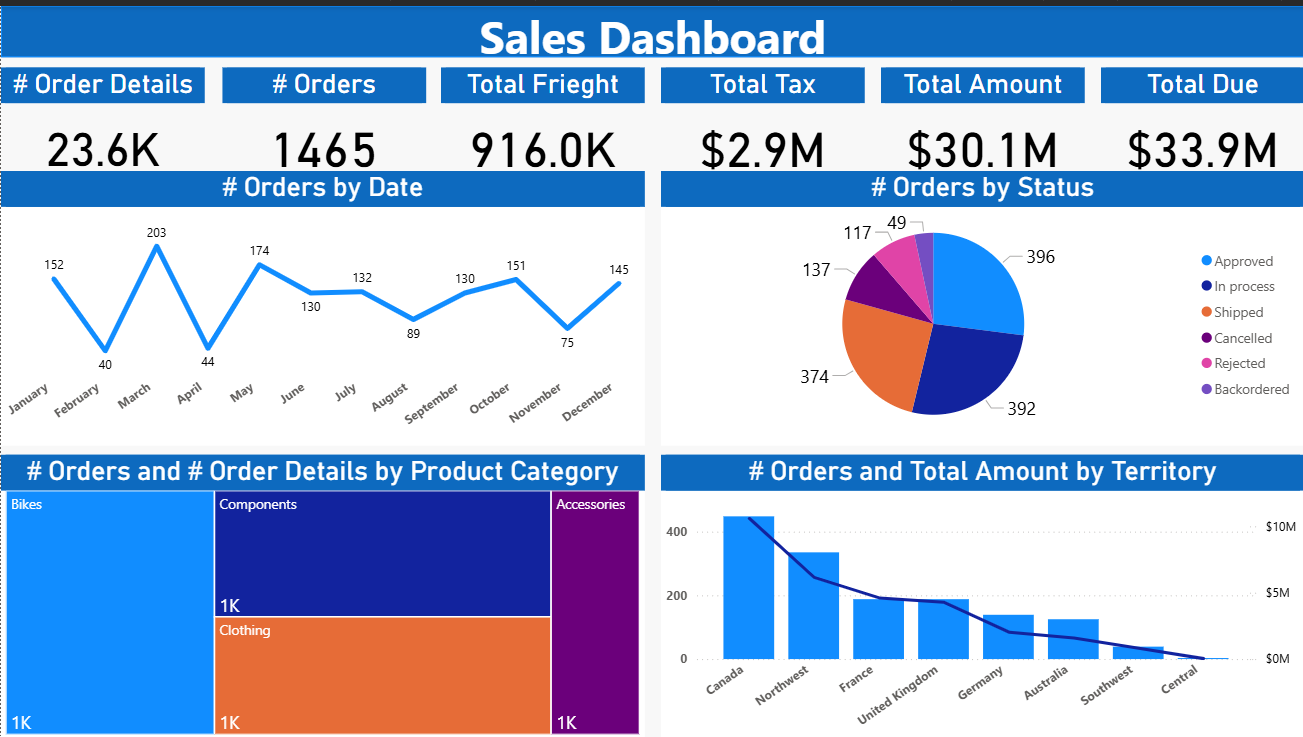

The page's visual inventory and layout, read from the dashboard file:
{"tool":"powerbi","page":{"name":"Page 1","canvas":[1280,720],"ordinal":0},"visuals":[{"type":"card","title":"# Order Details","fields":{"Values":["DAX Measures.# Order Details Measure"]},"box":[0,60.1,200,120.2],"z":0},{"type":"card","title":"# Orders","fields":{"Values":["DAX Measures.# Orders Measer"]},"box":[217.2,60.1,200,120.2],"z":1000},{"type":"card","title":"Total Due","fields":{"Values":["DAX Measures.Total Due Measuer"]},"box":[1079.8,60.1,200,120.2],"z":2000},{"type":"card","title":"Total Tax","fields":{"Values":["DAX Measures.Total Tax Measure"]},"box":[647.9,60.1,200,120.2],"z":3000},{"type":"card","title":"Total Frieght","fields":{"Values":["DAX Measures.Total Frieght Measure"]},"box":[431.9,60.1,200,120.2],"z":4000},{"type":"card","title":"Total Amount","fields":{"Values":["DAX Measures.Total Amount"]},"box":[863.8,60.1,200,120.2],"z":5000},{"type":"lineChart","title":"# Orders by Date","fields":{"Category":["Sales.OrderDate.Variation.Date Hierarchy.Year","Sales.OrderDate.Variation.Date Hierarchy.Quarter","Sales.OrderDate.Variation.Date Hierarchy.Month","Sales.OrderDate.Variation.Date Hierarchy.Day"],"Y":["DAX Measures.# Orders Measer"]},"box":[0,162,631.9,269.9],"z":6000},{"type":"pieChart","title":"# Orders by Status","fields":{"Y":["DAX Measures.# Orders Measer"],"Category":["Sales.Status"]},"box":[647.9,162,631.9,269.9],"z":7000},{"type":"treemap","title":"# Orders and # Order Details  by Product Category","fields":{"Group":["Sales.Order Hierarchy.ProductCategory","Sales.Order Hierarchy.ProductSubCategory","Sales.Order Hierarchy.Product"],"Values":["DAX Measures.# Orders Measer"]},"box":[0,440.5,631.9,279.8],"z":8000},{"type":"lineClusteredColumnComboChart","title":"# Orders and Total Amount by Territory","fields":{"Y":["DAX Measures.# Orders Measer"],"Category":["Sales.Territory"],"Y2":["DAX Measures.Total Amount"]},"box":[647.9,440.5,631.9,279.8],"z":9000},{"type":"shape","box":[0,0,1279.8,50.3],"z":9001}]}

Visuals, with their boxes in screenshot pixels (x1, y1, x2, y2), scaled from the page's 1280x720 canvas onto the 1303x737 screenshot:
"# Order Details" card: crop(0, 62, 204, 185)
"# Orders" card: crop(221, 62, 425, 185)
"Total Due" card: crop(1099, 62, 1302, 185)
"Total Tax" card: crop(660, 62, 863, 185)
"Total Frieght" card: crop(440, 62, 643, 185)
"Total Amount" card: crop(879, 62, 1083, 185)
"# Orders by Date" lineChart: crop(0, 166, 643, 442)
"# Orders by Status" pieChart: crop(660, 166, 1302, 442)
"# Orders and # Order Details  by Product Category" treemap: crop(0, 451, 643, 736)
"# Orders and Total Amount by Territory" lineClusteredColumnComboChart: crop(660, 451, 1302, 736)
shape: crop(0, 0, 1302, 51)
